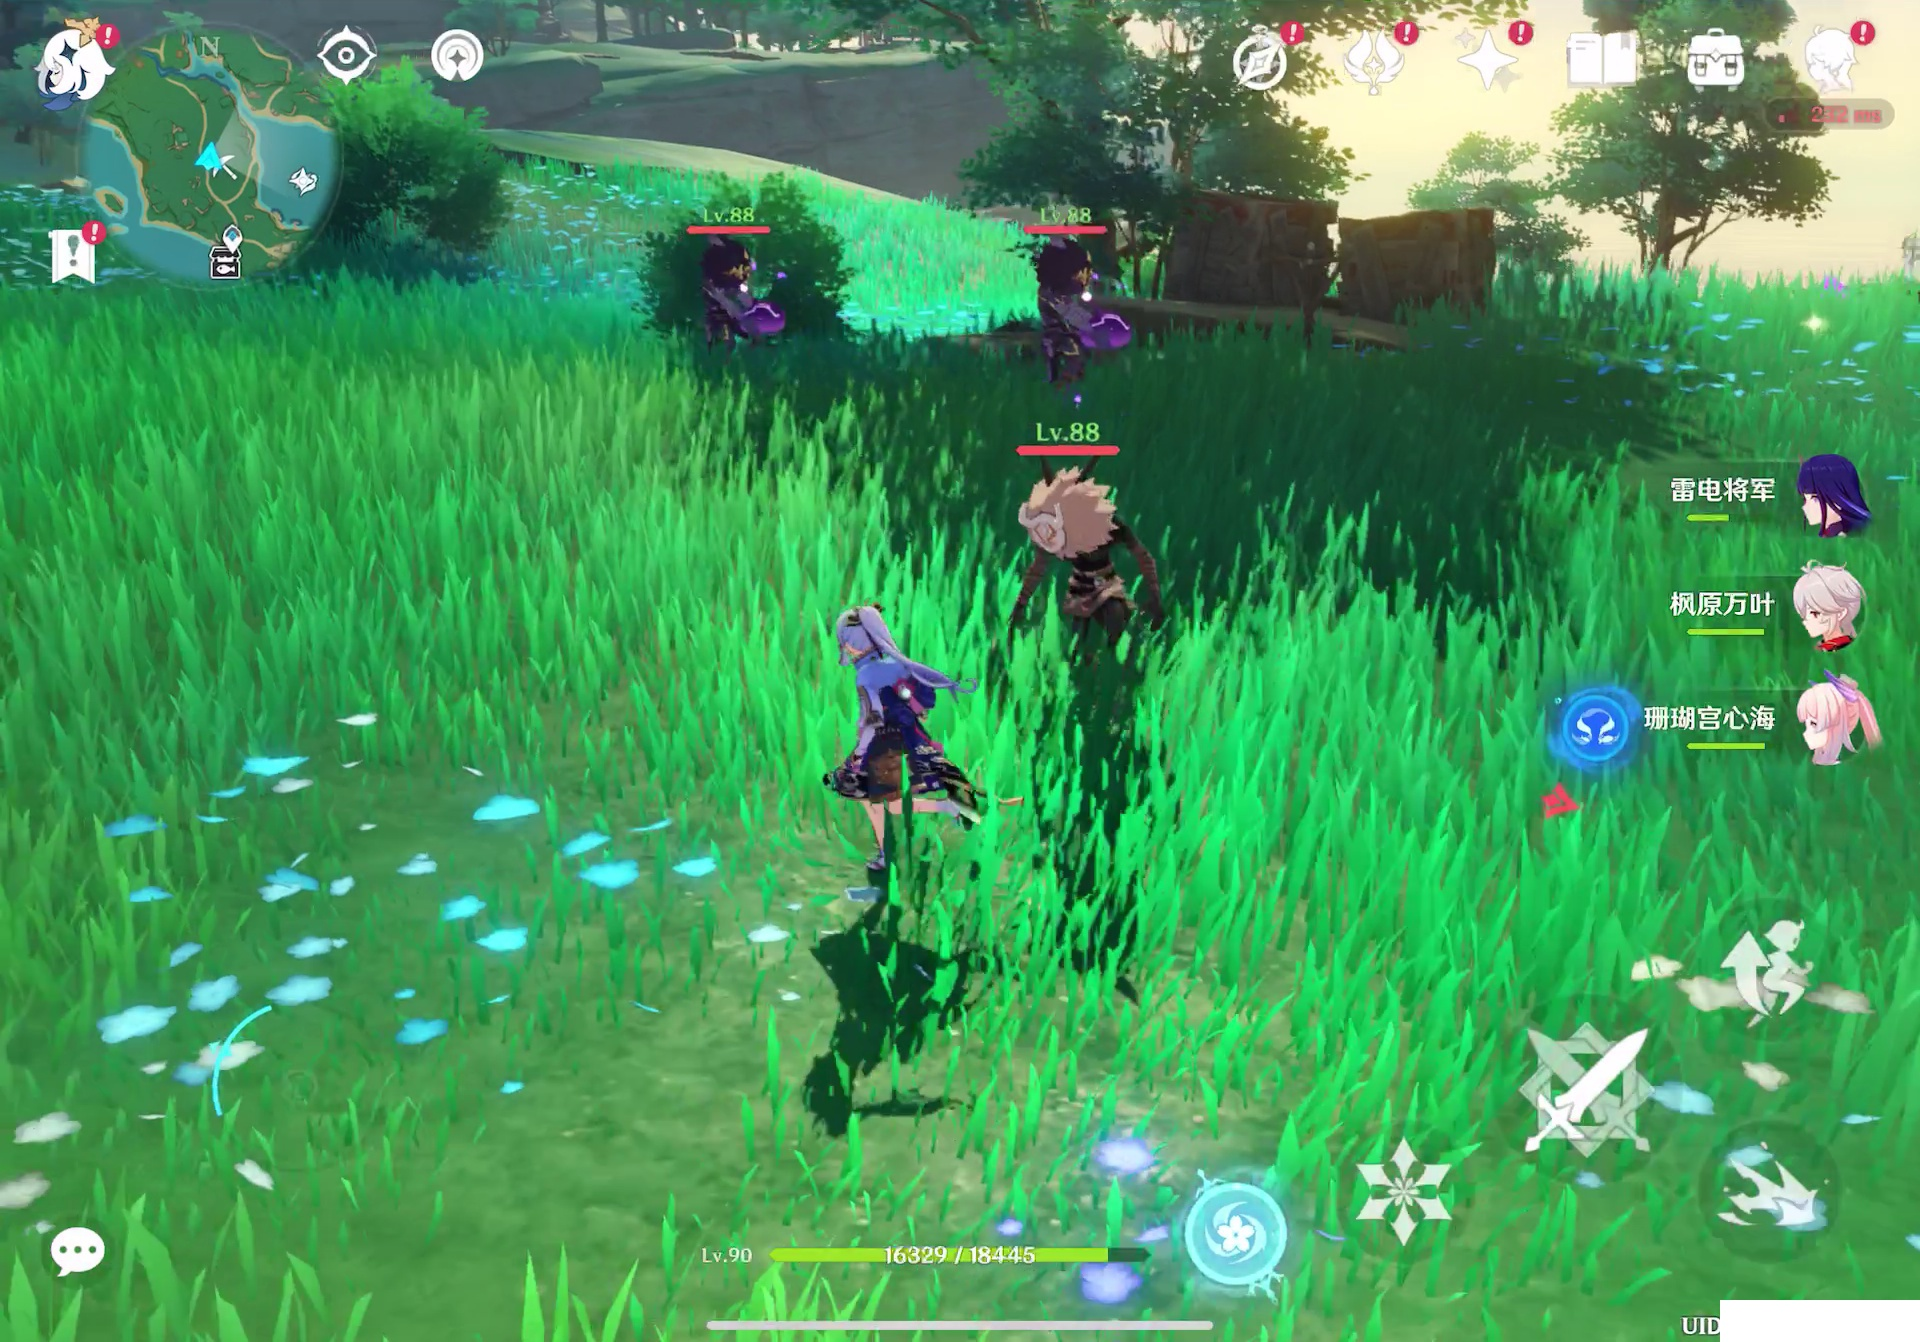丘丘人: (1007, 480, 1167, 667), (1026, 239, 1142, 387), (697, 244, 814, 381)
神里绫龟: (808, 586, 975, 890)
